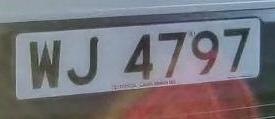4: (120, 30, 161, 82)
7: (154, 25, 189, 81), (218, 22, 254, 76)
9: (186, 24, 222, 77)
J: (62, 31, 106, 92)
W: (24, 31, 66, 97)
